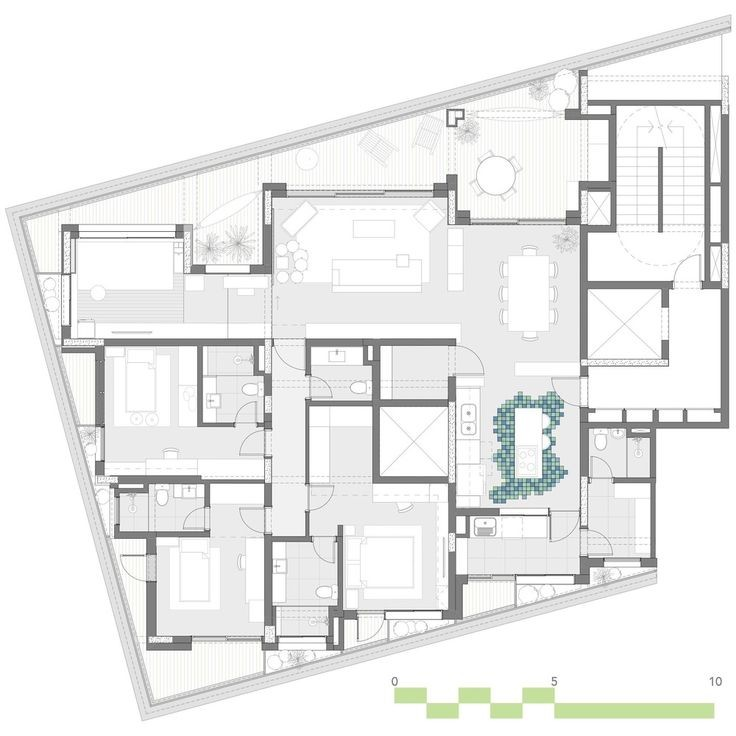door: (554, 372, 591, 410), (673, 252, 710, 288), (545, 511, 580, 546), (452, 344, 487, 378), (271, 339, 306, 371), (310, 532, 341, 566), (306, 481, 336, 513), (238, 429, 267, 460), (353, 615, 385, 642), (119, 553, 149, 581), (239, 505, 267, 531), (585, 528, 611, 555), (308, 371, 333, 399), (593, 454, 617, 483), (234, 401, 258, 424), (182, 509, 206, 532)
room: (271, 202, 446, 333), (468, 349, 578, 510), (454, 217, 573, 355), (342, 490, 451, 611), (106, 345, 197, 471), (154, 531, 261, 635), (79, 235, 189, 335), (463, 521, 581, 574), (200, 346, 260, 429), (275, 538, 338, 613), (589, 424, 653, 476), (318, 345, 374, 401)
wall: (589, 416, 735, 430), (106, 335, 265, 347), (719, 285, 732, 424), (336, 526, 347, 651), (309, 337, 456, 346), (194, 342, 208, 429), (93, 347, 108, 422), (586, 282, 672, 295), (609, 103, 618, 227), (448, 484, 456, 612), (115, 527, 203, 538), (312, 402, 450, 409), (722, 112, 729, 246), (589, 99, 722, 106), (647, 432, 654, 565), (120, 475, 206, 485), (258, 219, 273, 275), (145, 578, 156, 652), (147, 634, 196, 650), (381, 475, 452, 486), (579, 412, 590, 480), (376, 346, 381, 481), (432, 173, 458, 197), (570, 109, 610, 122), (581, 231, 584, 360), (578, 556, 589, 584), (267, 181, 289, 195), (616, 476, 656, 483), (581, 184, 616, 192), (267, 530, 270, 620), (215, 477, 264, 481)
window: (471, 213, 564, 228), (291, 190, 424, 198), (197, 637, 267, 647), (465, 573, 521, 581), (94, 425, 104, 459), (717, 251, 727, 282), (113, 496, 119, 529)
